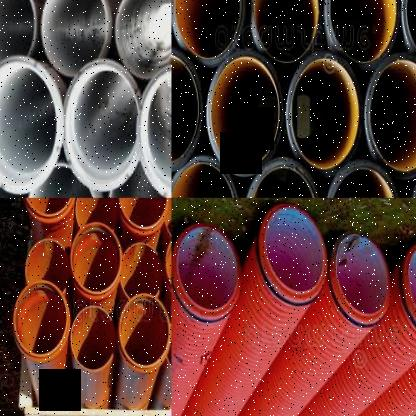pipe: (64, 59, 140, 191), (206, 51, 283, 176), (286, 55, 362, 177), (0, 55, 62, 194), (363, 52, 416, 178), (172, 223, 241, 318), (260, 204, 326, 301), (331, 232, 391, 322), (324, 0, 400, 69), (41, 0, 107, 76), (250, 0, 320, 66), (114, 0, 172, 78), (172, 0, 242, 64), (13, 280, 68, 357), (139, 68, 171, 198), (171, 46, 203, 174), (118, 294, 171, 368), (71, 222, 122, 295), (242, 155, 324, 198), (325, 158, 404, 198), (71, 306, 116, 371), (172, 155, 240, 198), (26, 163, 98, 198), (0, 0, 36, 69), (25, 239, 70, 293), (120, 243, 163, 299), (108, 161, 172, 198), (118, 198, 167, 228), (75, 198, 118, 230), (403, 243, 416, 334), (22, 198, 75, 216)
